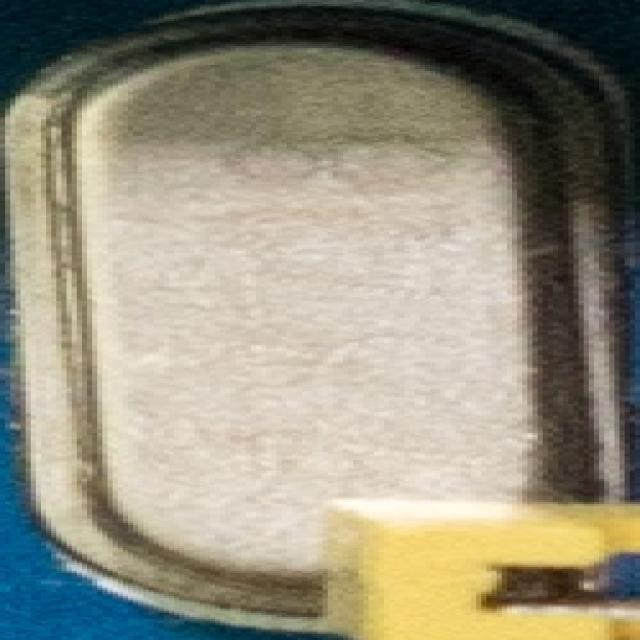clock Q1: (16, 8, 620, 640)
